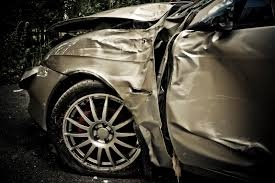Dent: (97, 8, 209, 124)
